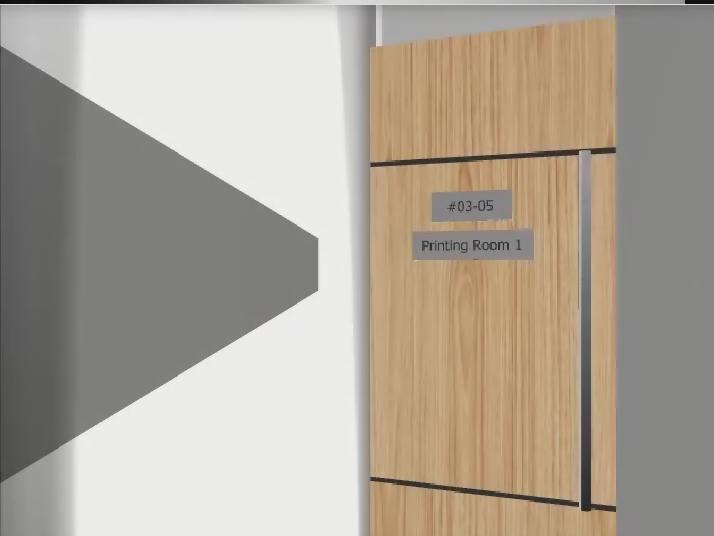door: (369, 18, 615, 536)
